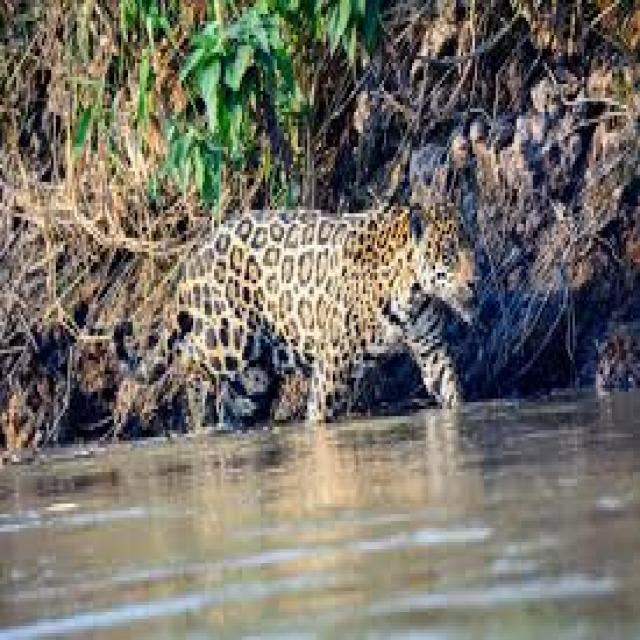Jaguar: (109, 200, 484, 438)
